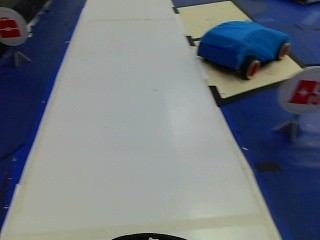battery: (279, 67, 318, 116)
car: (183, 17, 298, 83)
company: (0, 5, 27, 49)
